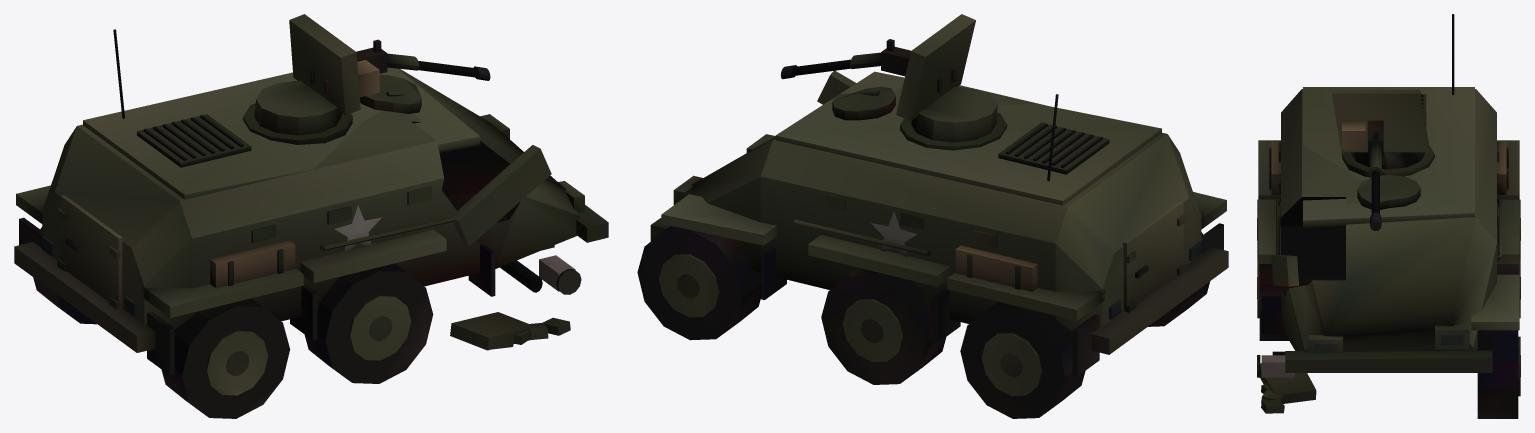
Rendered from veh.military-apc.wrecked.lod1.glb.
The picture shows the model from 3 angles, left to right: view 1: azimuth 30°, elevation 25°; view 2: azimuth 150°, elevation 25°; view 3: azimuth 270°, elevation 25°; orthographic projection. The views are drawn at different scales.
Parts seen in each view (by area): view 1: body, wheelRL, wheelML, turret, gun, wheelFL, wheelRR; view 2: body, wheelFR, wheelRR, wheelMR, turret, gun, wheelRL; view 3: body, turret, wheelFR, gun, wheelML, wheelFL, wheelMR.
Boxes of the visible parts, bbox=[...] form: body: bbox=[14, 29, 608, 375]; wheelRL: bbox=[161, 298, 290, 418]; wheelML: bbox=[304, 263, 433, 383]; turret: bbox=[242, 14, 360, 144]; gun: bbox=[310, 39, 490, 97]; wheelFL: bbox=[539, 255, 581, 294]; wheelRR: bbox=[33, 227, 96, 324]; body: bbox=[650, 70, 1228, 376]; wheelFR: bbox=[637, 226, 760, 340]; wheelRR: bbox=[960, 301, 1085, 418]; wheelMR: bbox=[821, 268, 946, 384]; turret: bbox=[896, 14, 1007, 150]; gun: bbox=[780, 39, 956, 92]; wheelRL: bbox=[1148, 232, 1210, 326]; body: bbox=[1258, 14, 1519, 413]; turret: bbox=[1331, 89, 1435, 177]; wheelFR: bbox=[1477, 330, 1520, 418]; gun: bbox=[1342, 120, 1383, 230]; wheelML: bbox=[1257, 258, 1288, 340]; wheelFL: bbox=[1257, 355, 1294, 377]; wheelMR: bbox=[1497, 258, 1520, 318].
Size of the model in its own units: 5.24 by 3.28 by 3.
